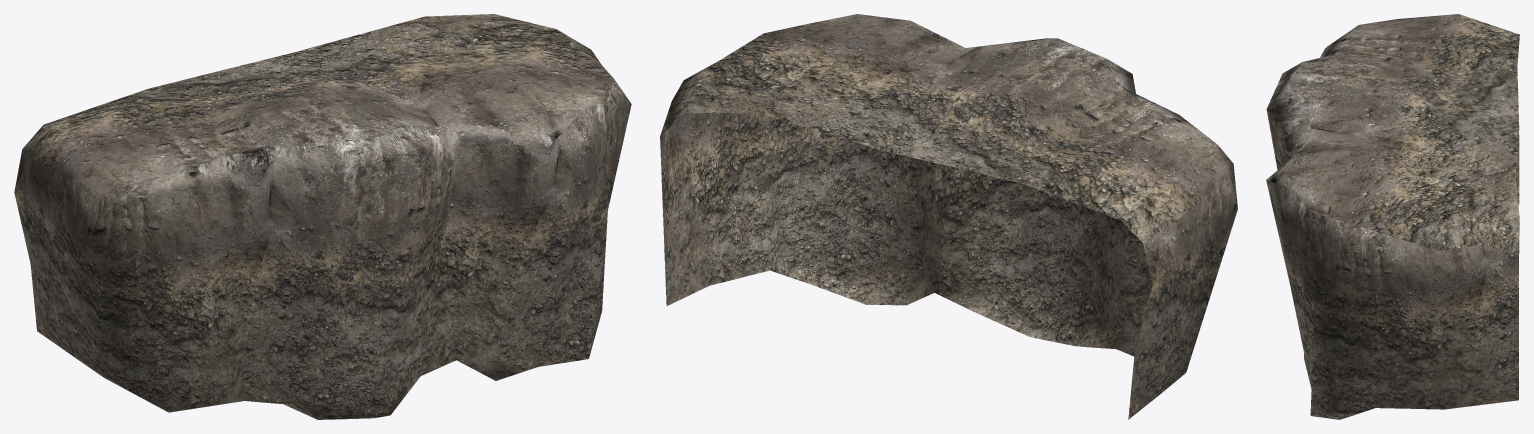
Rendered from Cliff2_LOD1.fbx.
3 renders of one model, left to right at view 1: azimuth 30°, elevation 25°; view 2: azimuth 150°, elevation 25°; view 3: azimuth 270°, elevation 25°, orthographic. The views are drawn at different scales.
Parts seen in each view (by area): view 1: polySurface5; view 2: polySurface5; view 3: polySurface5.
Boxes of the visible parts, <box> form: polySurface5: <box>14,14,631,419</box>; polySurface5: <box>660,14,1237,419</box>; polySurface5: <box>1266,14,1519,419</box>.
Bounding box in the file's own units: 8.77 × 4.66 × 4.23.
